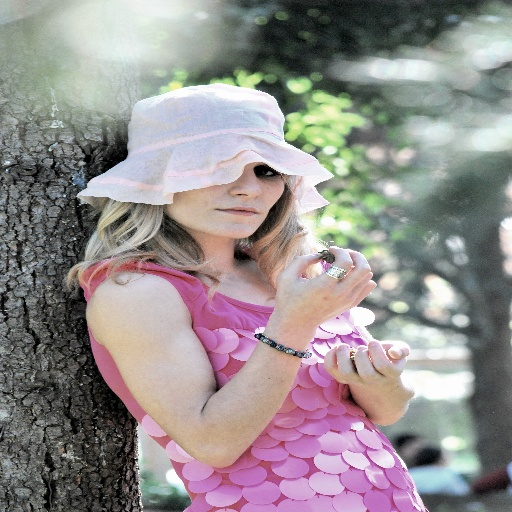hand: (262, 244, 374, 343), (320, 337, 412, 388)
